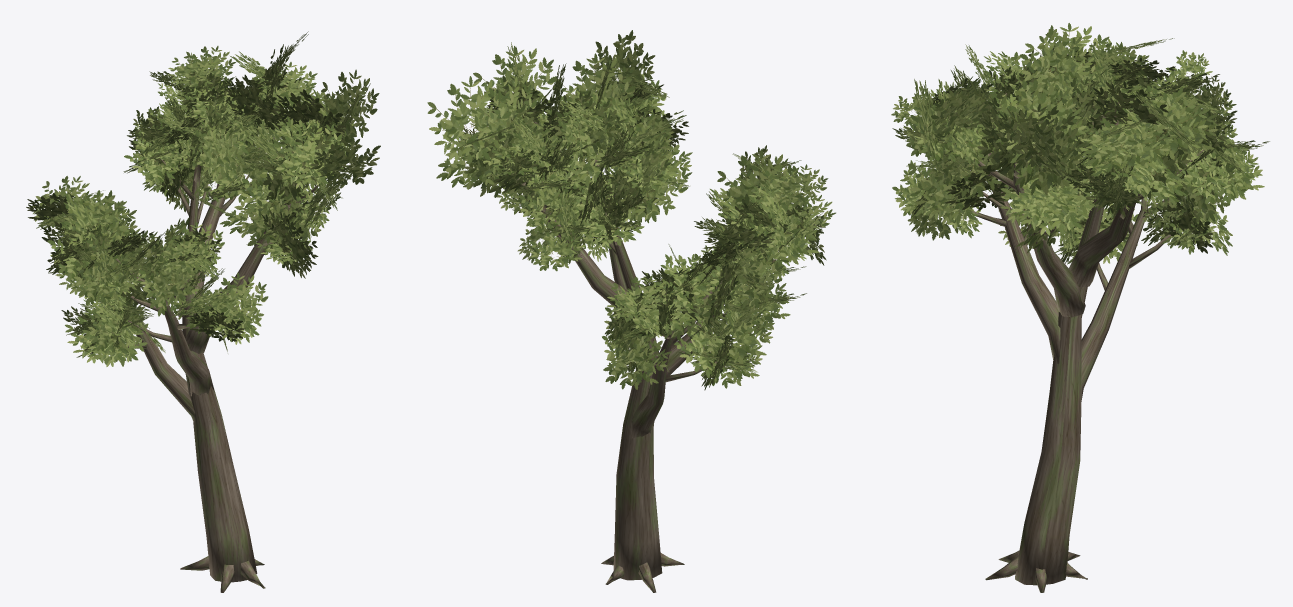
File: tree-oak-3.glb
3 renders of one model, left to right at view 1: azimuth 30°, elevation 25°; view 2: azimuth 150°, elevation 25°; view 3: azimuth 270°, elevation 25°, orthographic. The views are drawn at different scales.
Visible parts, largest first — view 1: Broadleaf sprigs, Trunk and branches; view 2: Broadleaf sprigs, Trunk and branches; view 3: Broadleaf sprigs, Trunk and branches.
Part boxes in pixels (left/top/right/bottom): Broadleaf sprigs: left=26, top=31, right=380, bottom=366; Trunk and branches: left=116, top=125, right=319, bottom=592; Broadleaf sprigs: left=427, top=30, right=835, bottom=390; Trunk and branches: left=512, top=121, right=776, bottom=592; Broadleaf sprigs: left=891, top=23, right=1269, bottom=264; Trunk and branches: left=955, top=92, right=1203, bottom=592.
Size of the model in its own units: 5 by 7 by 4.51.
2 materials, 2 textured.
